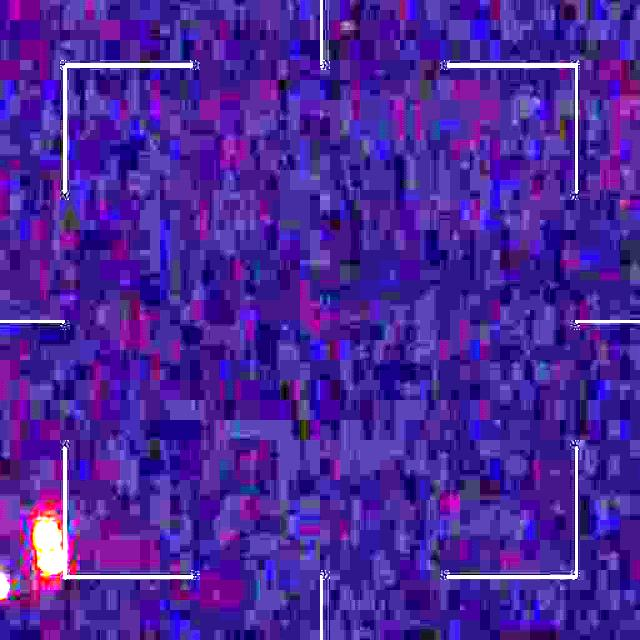bird: (0, 512, 66, 598)
